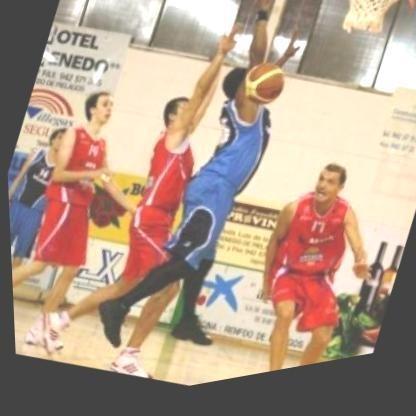basketball: (233, 60, 292, 126)
